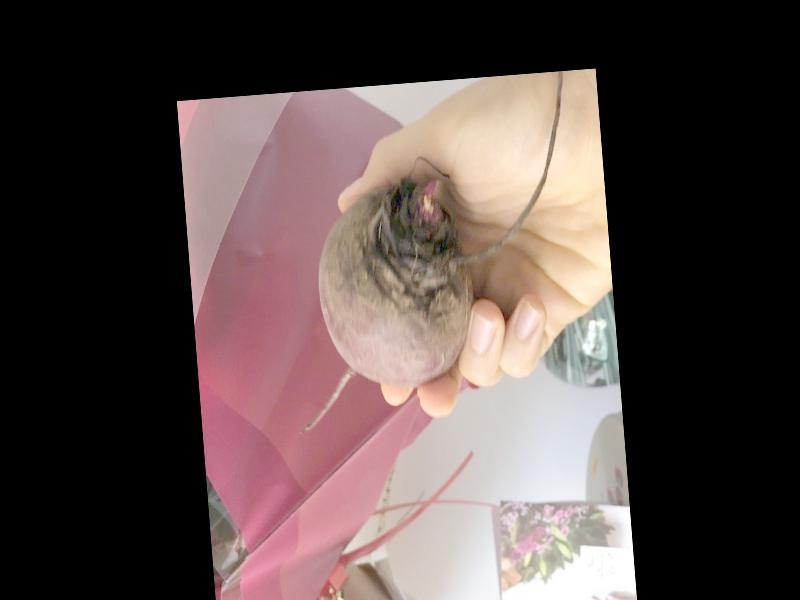Beet: (275, 74, 589, 434)
